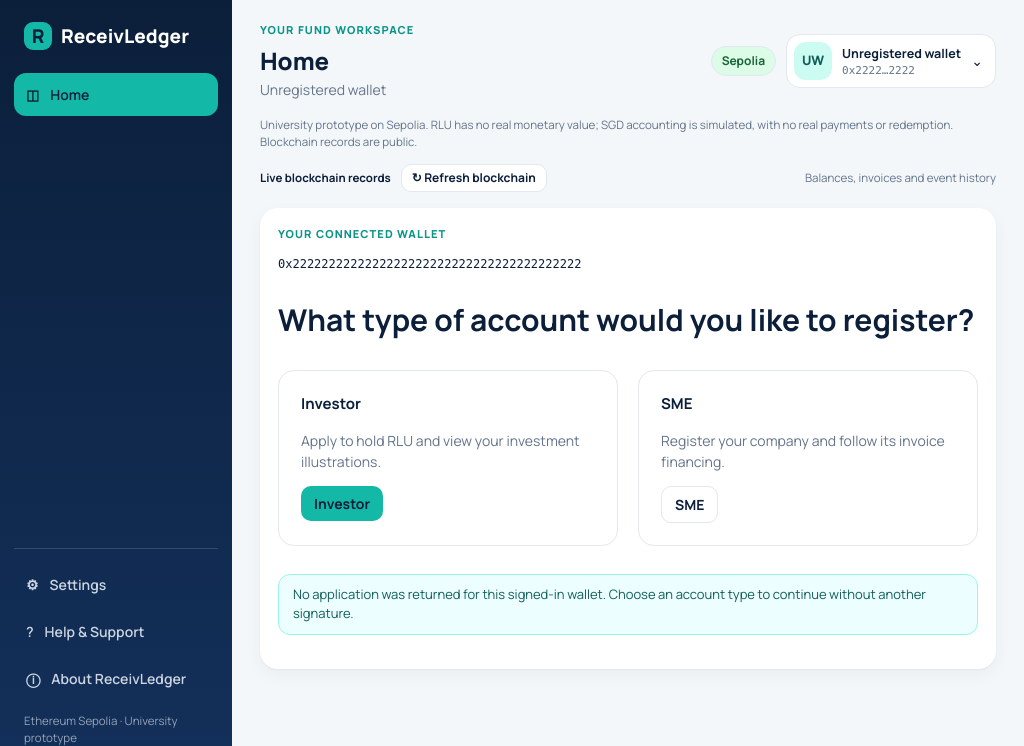
Scenario: new-wallet onboarding and secure registration forms › welcomes an unknown connected wallet with both registration paths
Expected: the button "Investor" is shown, [301,486,383,521]
Click the button "SME" at (690, 504), box [661,486,718,523]
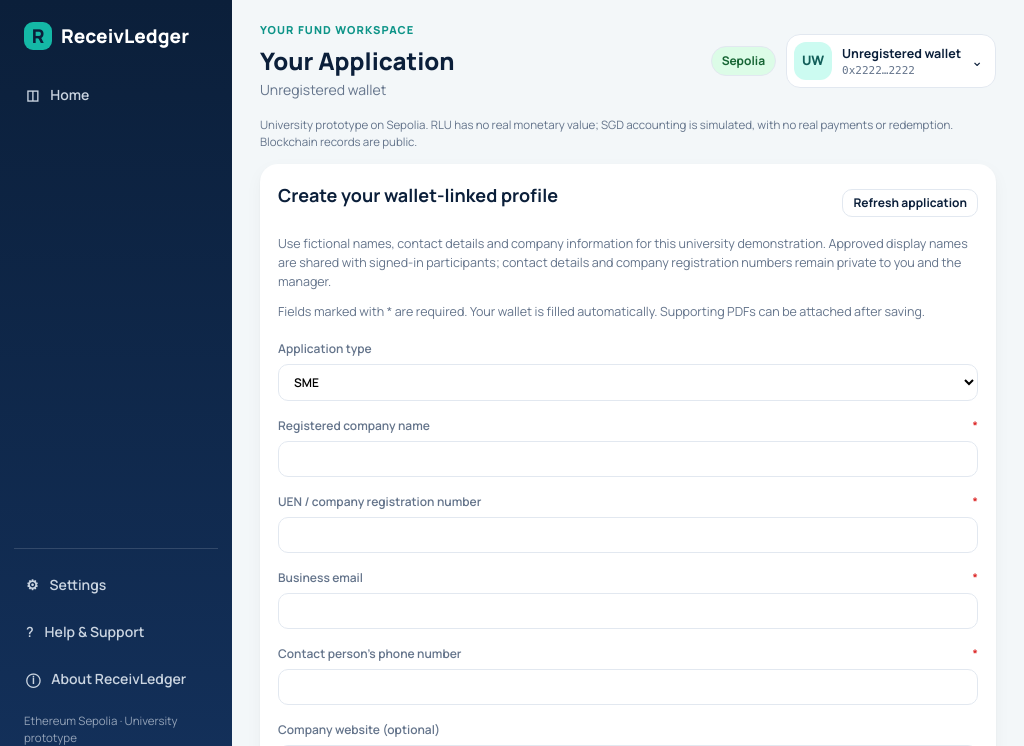
Now the field labelled "Registered company name" is shown, box [278,441,978,477]
